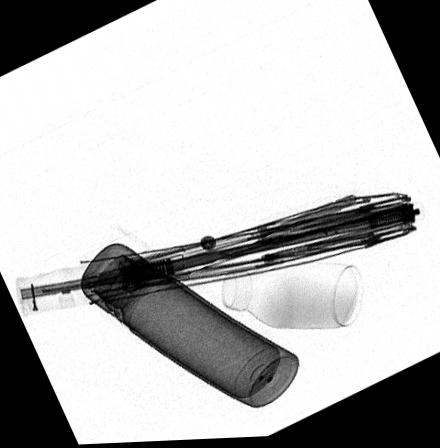Knife: (197, 198, 357, 254)
